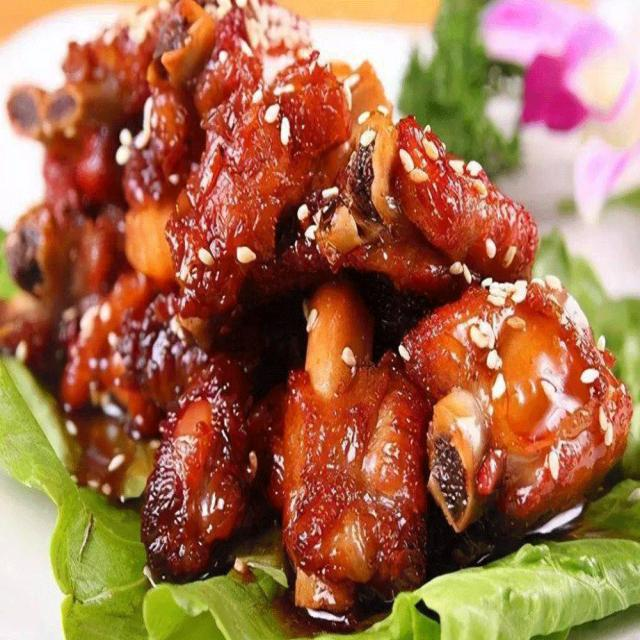suon xao: (10, 0, 630, 626)
